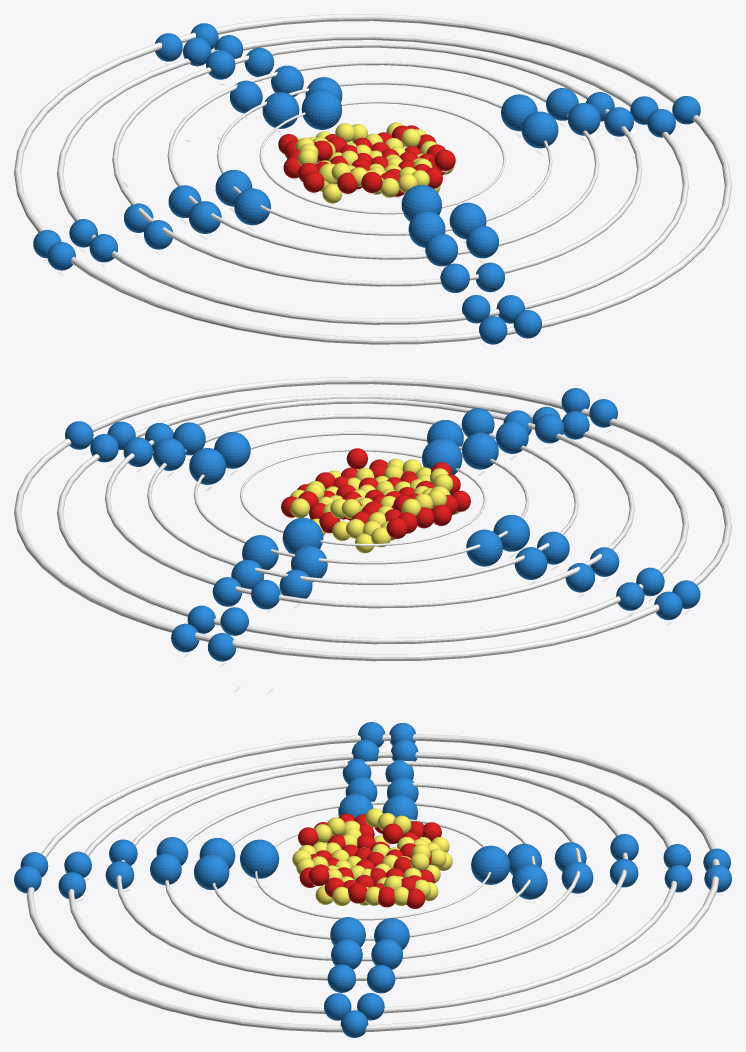
3 renders of one model, top to bottom at view 1: azimuth 30°, elevation 25°; view 2: azimuth 150°, elevation 25°; view 3: azimuth 270°, elevation 25°, orthographic. The views are drawn at different scales.
Visible parts, largest first — view 1: Torus.006, Torus.005, Torus.004, Torus.003, Torus.002, Torus.001, g, g.005, g.003, g.001, g.008, g.007 (+30 smaller); view 2: Torus.006, Torus.005, Torus.004, Torus.003, Torus.002, Torus.001, g, g.006, g.004, g.002, g.001, g.005 (+31 smaller); view 3: Torus.006, Torus.005, Torus.004, Torus.003, Torus.002, g.001, g, Torus.001, g.007, g.009, g.015, g.005 (+27 smaller).
Part boxes in pixels (bbox=[...]): Torus.006: bbox=[14, 14, 731, 344]; Torus.005: bbox=[57, 33, 688, 324]; Torus.004: bbox=[112, 42, 642, 286]; Torus.003: bbox=[167, 61, 599, 259]; Torus.002: bbox=[217, 81, 552, 235]; Torus.001: bbox=[259, 101, 505, 214]; g: bbox=[301, 89, 342, 129]; g.005: bbox=[521, 111, 558, 148]; g.003: bbox=[234, 188, 270, 225]; g.001: bbox=[401, 185, 441, 221]; g.008: bbox=[262, 92, 299, 128]; g.007: bbox=[449, 202, 486, 239]; Torus.006: bbox=[14, 377, 731, 661]; Torus.005: bbox=[57, 394, 688, 644]; Torus.004: bbox=[105, 398, 634, 608]; Torus.003: bbox=[147, 414, 578, 584]; Torus.002: bbox=[193, 431, 529, 564]; Torus.001: bbox=[240, 449, 485, 546]; g: bbox=[282, 517, 323, 553]; g.006: bbox=[462, 432, 498, 469]; g.004: bbox=[189, 448, 225, 484]; g.002: bbox=[466, 529, 502, 566]; g.001: bbox=[422, 438, 462, 474]; g.005: bbox=[214, 432, 250, 468]; Torus.006: bbox=[26, 734, 719, 1032]; Torus.005: bbox=[68, 752, 676, 1013]; Torus.004: bbox=[116, 761, 627, 980]; Torus.003: bbox=[165, 782, 581, 961]; Torus.002: bbox=[212, 801, 535, 940]; g.001: bbox=[240, 839, 279, 878]; g: bbox=[471, 845, 510, 884]; Torus.001: bbox=[255, 819, 490, 920]; g.007: bbox=[194, 854, 229, 889]; g.009: bbox=[512, 864, 547, 899]; g.015: bbox=[150, 853, 181, 885]; g.005: bbox=[330, 917, 365, 946].
Bounding box in the file's own units: 18.05 × 2.92 × 18.12.
